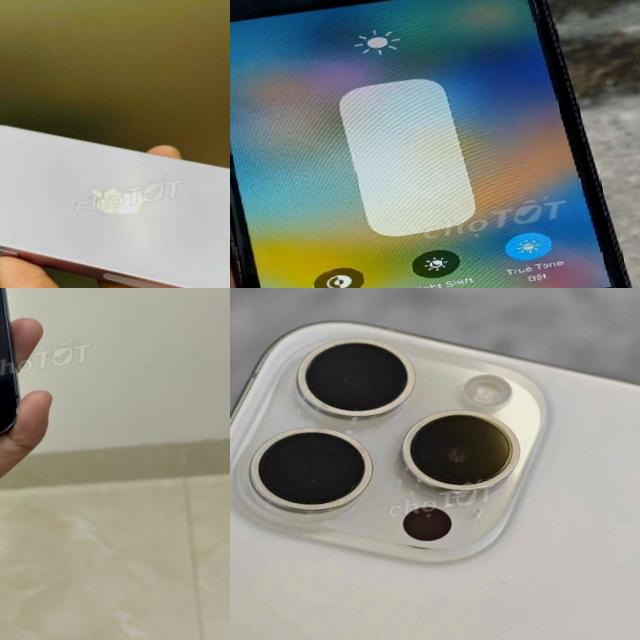scratch: (230, 3, 291, 288), (510, 0, 571, 54)
